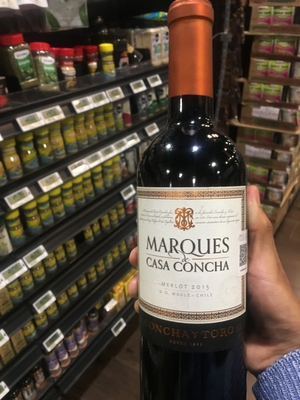marques de casa concha merlot: (125, 15, 269, 388)
